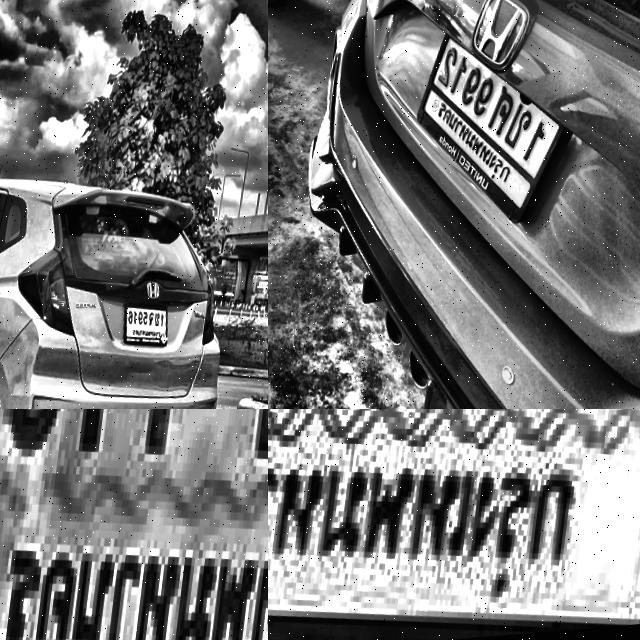license-plate: (268, 409, 640, 640), (0, 409, 268, 640), (402, 16, 589, 248), (118, 300, 174, 362)
